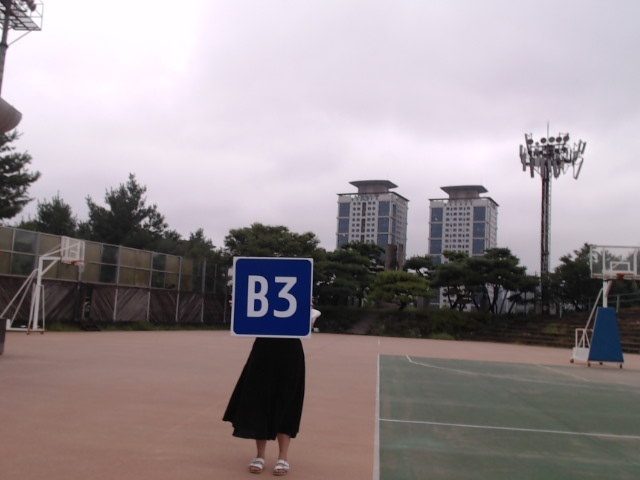delivery_b3: (233, 257, 311, 337)
